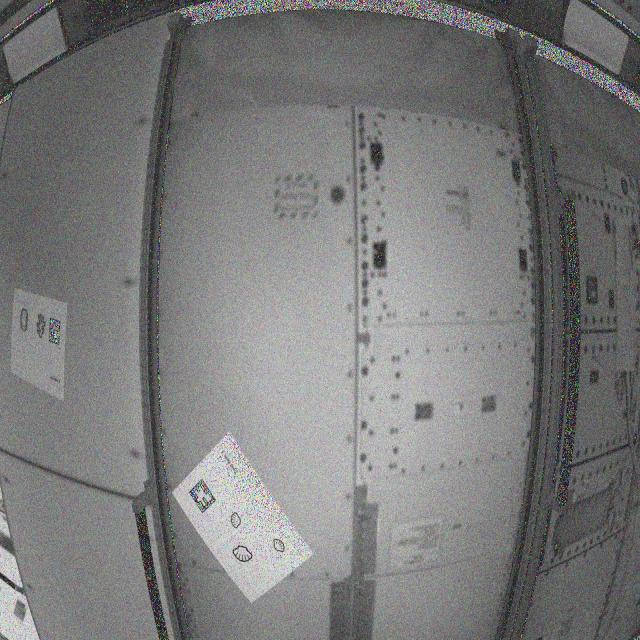coral: (35, 313, 49, 341)
emerald: (17, 306, 31, 338)
shell: (232, 544, 258, 566), (273, 537, 289, 558), (230, 511, 244, 533)
